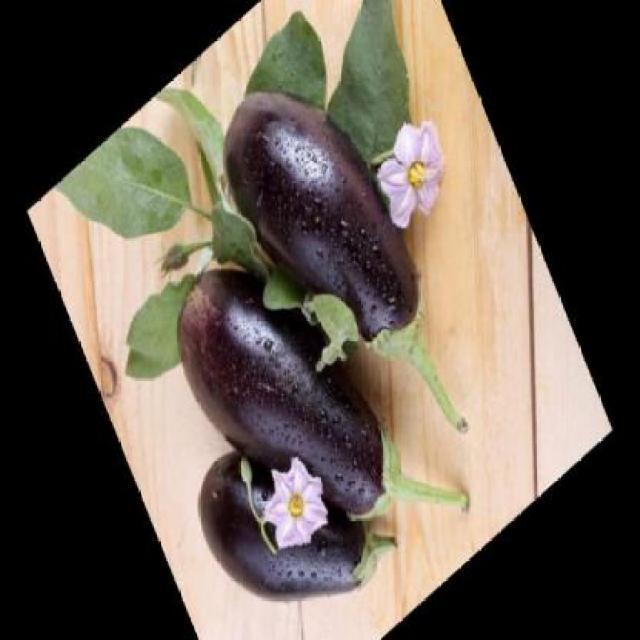eggplant: (157, 154, 474, 638), (203, 25, 479, 527), (182, 358, 404, 638)
